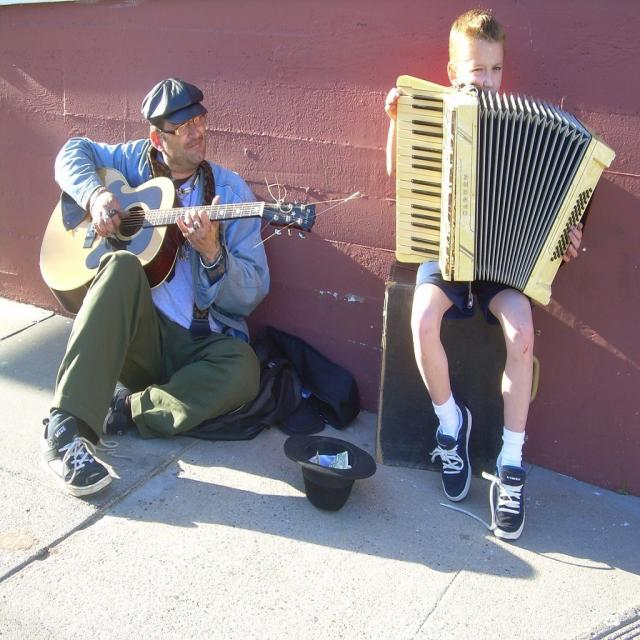guitar: (40, 165, 318, 316)
